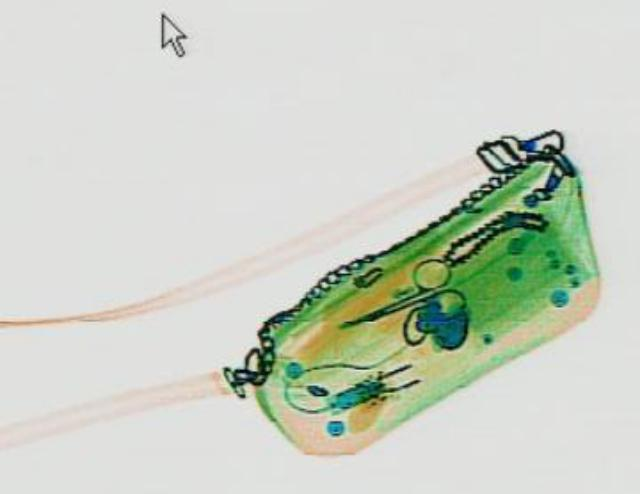Scissors: (316, 249, 480, 349)
